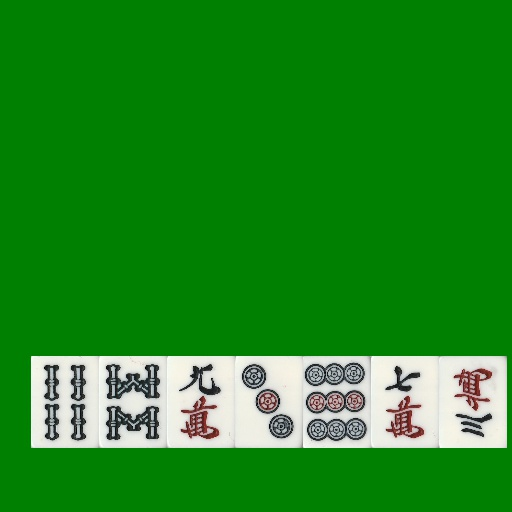3m: (439, 356, 507, 448)
3p: (235, 356, 303, 448)
4s: (31, 356, 99, 448)
7m: (371, 356, 439, 448)
8s: (99, 356, 167, 448)
9m: (167, 356, 235, 448)
9p: (303, 356, 371, 448)
